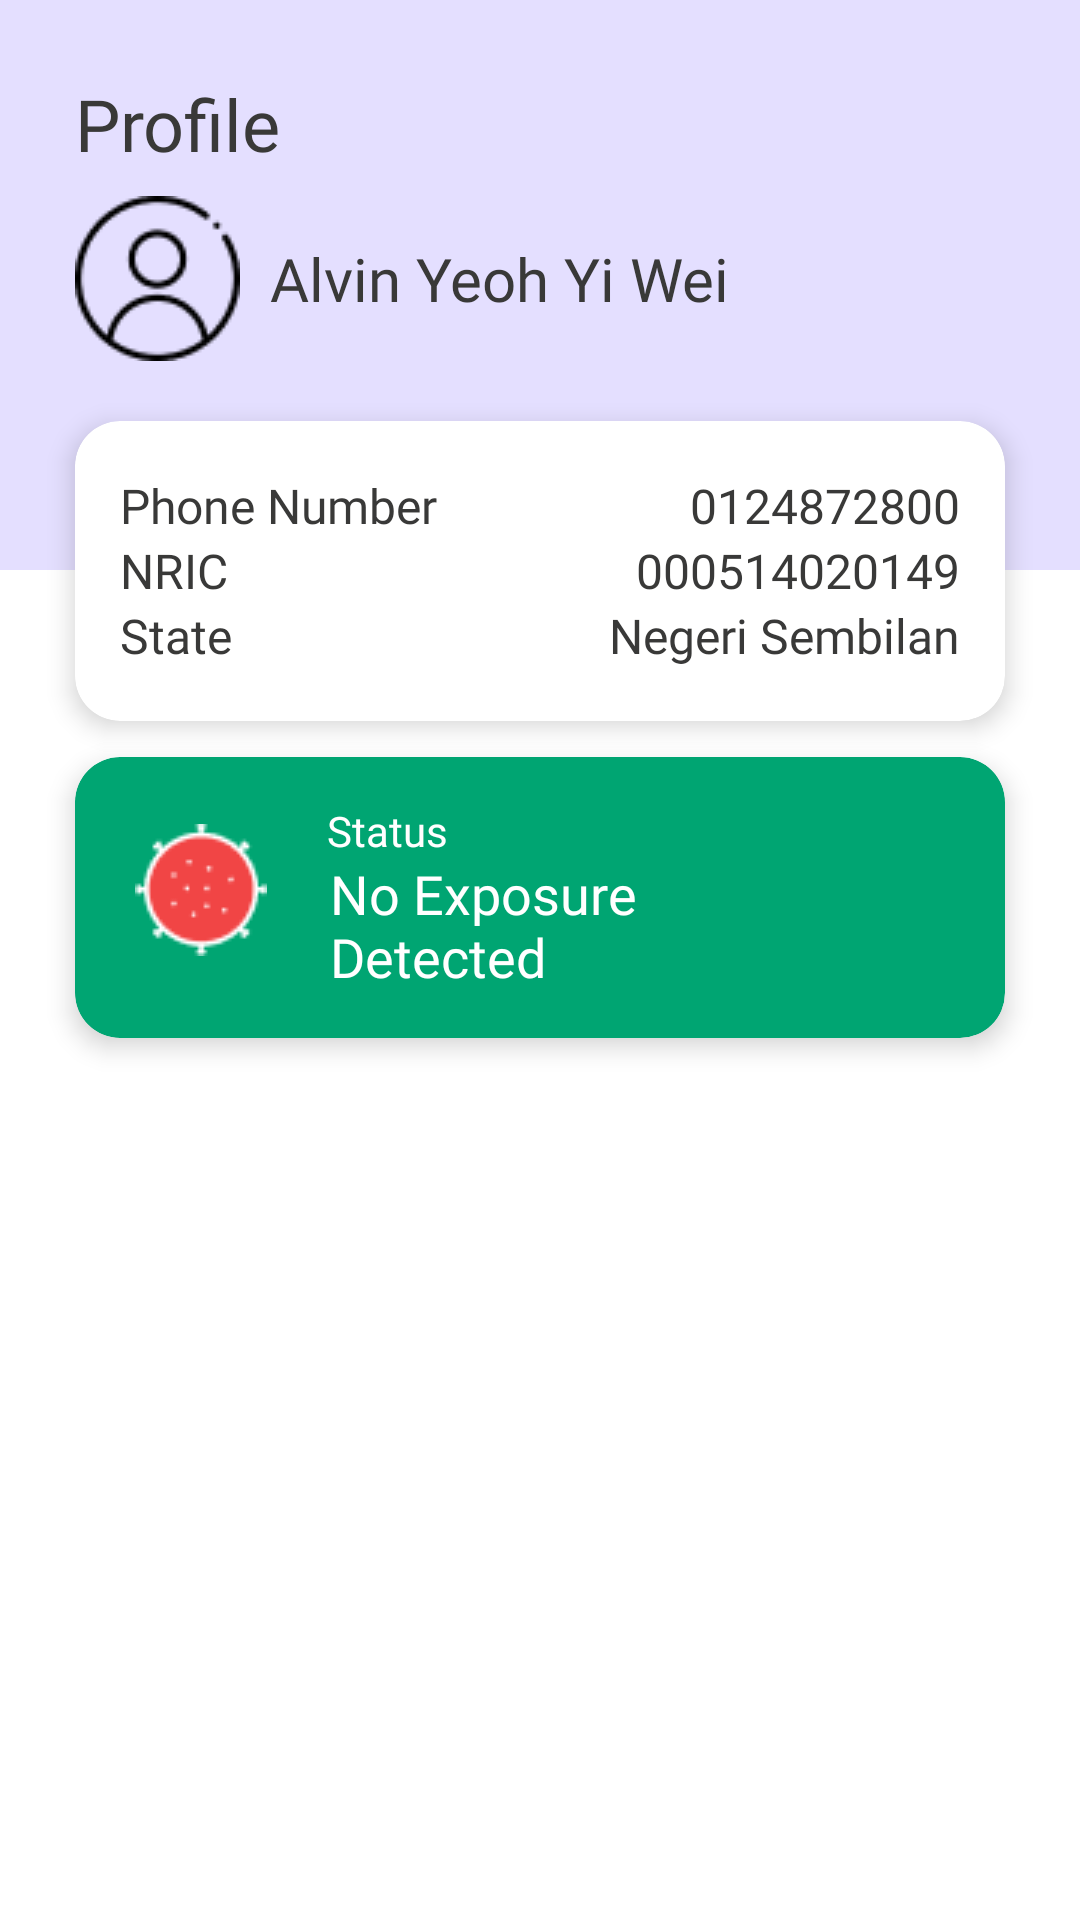

Point at icon controls on the screen. Image size 1080px×1920px, points as point (x, y).
user: point (157, 278)
